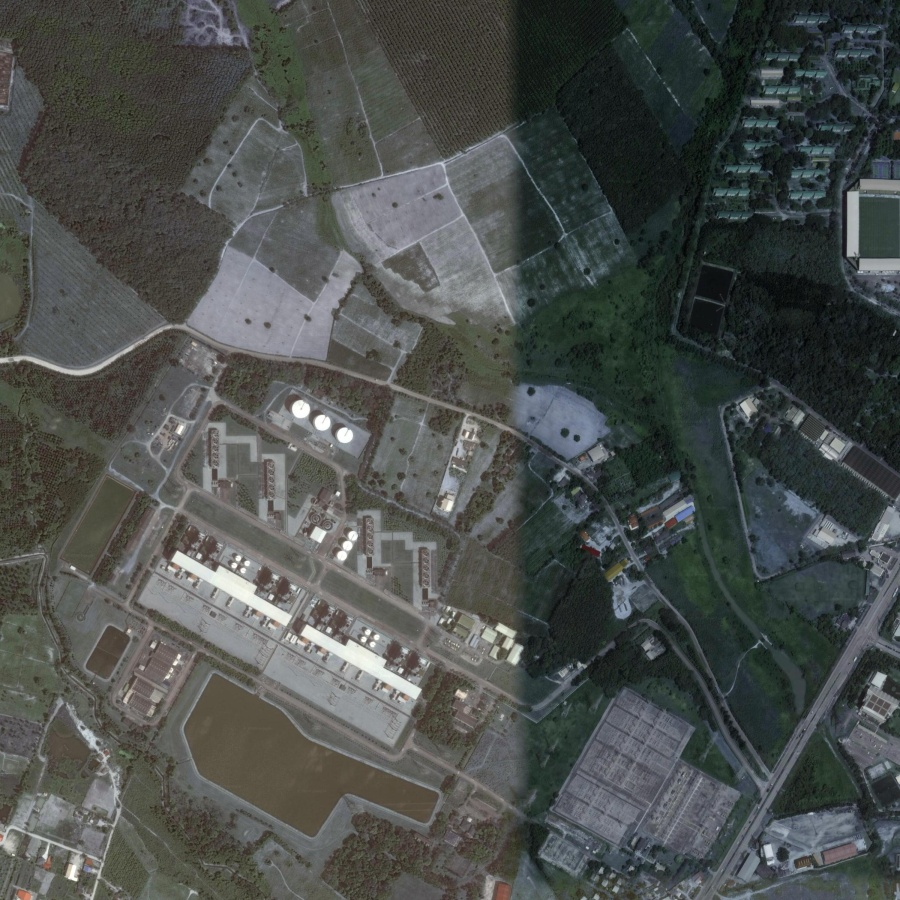PowerPlant: (88, 386, 542, 844)
